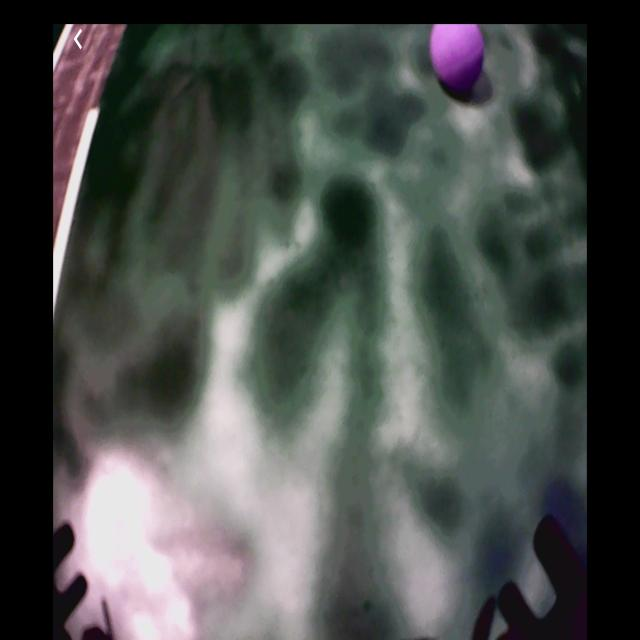ball: (430, 24, 484, 88)
